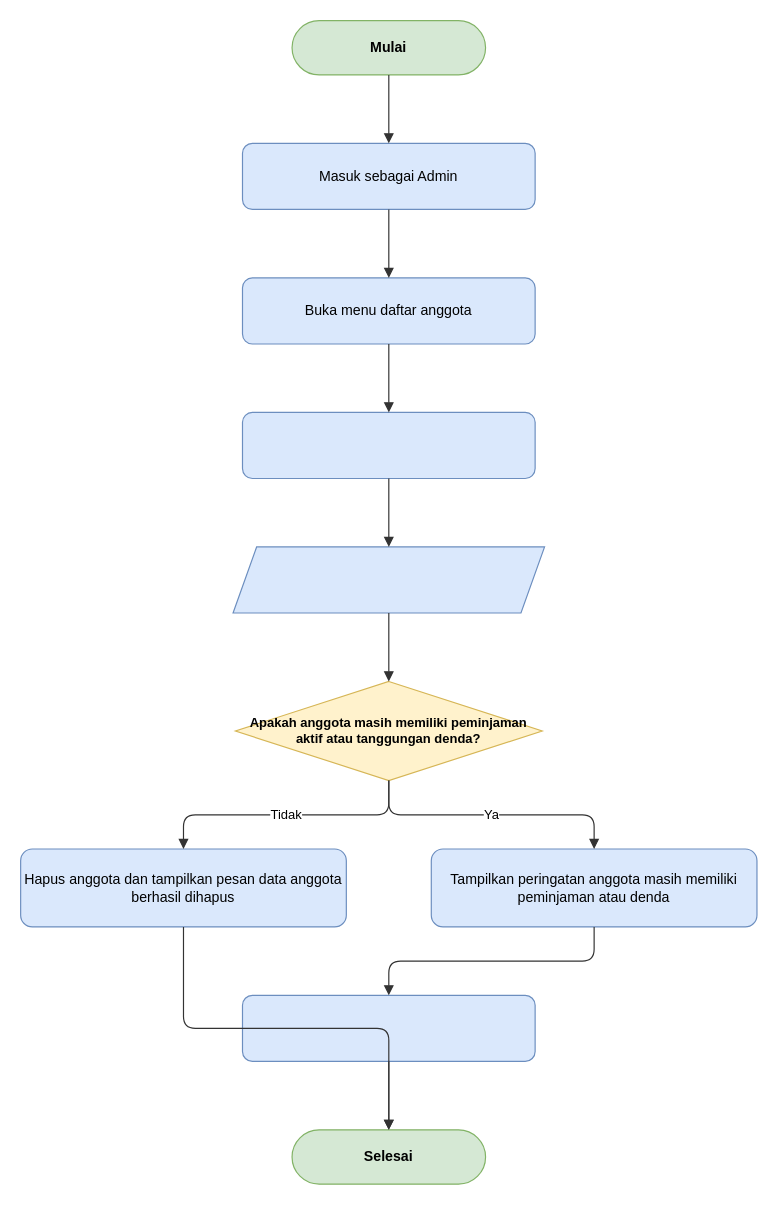
Image size: 778x1205. Some labels were removed from this diagram. Here are the shapes that lost their labels. From the top down, the box of each, then its label:
(241, 411, 535, 478): Pilih anggota yang ingin dihapus
(232, 546, 545, 613): Klik tombol hapus anggota
(241, 994, 535, 1061): Batalkan penghapusan anggota
